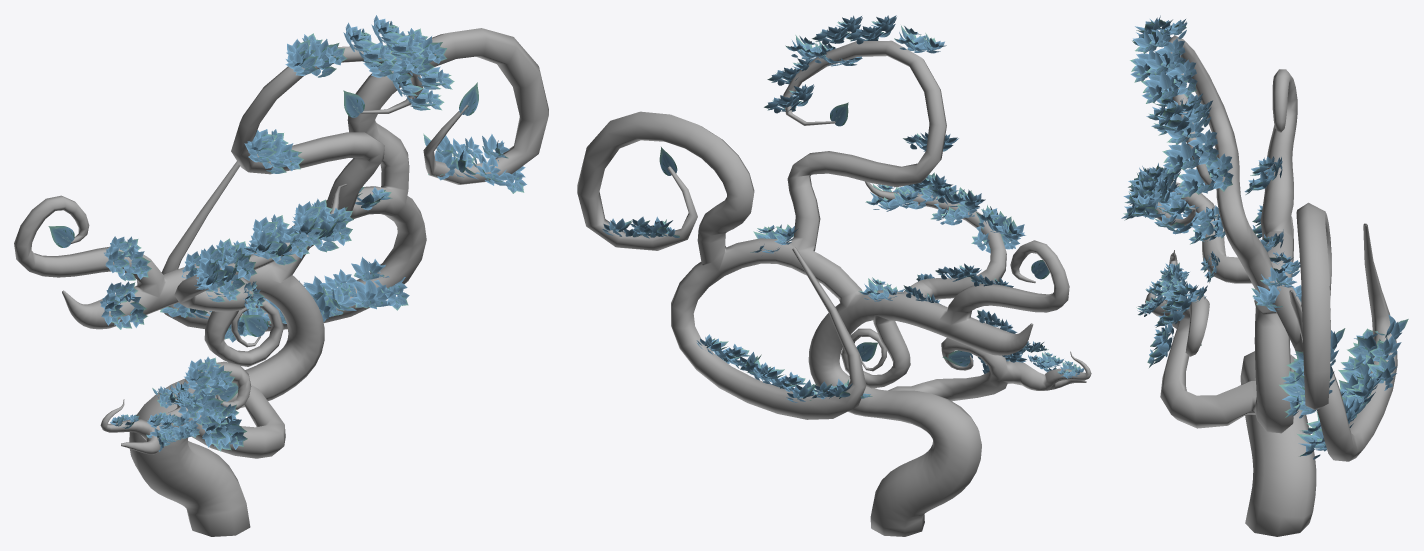
File: arbre spirale + feuille.fbx
3 views of the same model, side by side, from view 1: azimuth 30°, elevation 25°; view 2: azimuth 150°, elevation 25°; view 3: azimuth 270°, elevation 25° (orthographic). The views are drawn at different scales.
Visible parts, largest first — view 1: pCylinder3, feuillage_5_grand2, feuillage_5_grand5, feuillage_5_petit17, feuillage_5_petit15, feuillage_5_petit14, feuillage_5_petit12, feuillage_5_petit16, feuillage_5_petit5, feuillage_5_petit6, feuillage_5_petit2, feuillage_5_petit4 (+8 smaller); view 2: pCylinder3, feuillage_5_grand2, feuillage_5_grand5, feuillage_5_petit25, feuillage_5_grand3, feuillage_5_petit26, feuillage_5_grand4, feuillage_5_petit17, feuillage_5_petit19, feuillage_5_petit13, feuillage_5_petit20, feuillage_5_petit18 (+1 smaller); view 3: pCylinder3, feuillage_5_grand4, feuillage_5_petit19, feuillage_5_petit21, feuillage_5_grand5, feuillage_5_petit18, feuillage_5_petit20, feuillage_5_petit13, feuillage_5_petit27, feuillage_5_grand2, feuillage_5_petit22, feuillage_5_petit14 (+12 smaller).
Boxes of the visible parts, x1,y1,x2,y2 form: pCylinder3: (14, 28, 548, 536); feuillage_5_grand2: (303, 257, 409, 321); feuillage_5_grand5: (423, 133, 526, 193); feuillage_5_petit17: (285, 33, 347, 77); feuillage_5_petit15: (196, 238, 256, 291); feuillage_5_petit14: (292, 198, 352, 252); feuillage_5_petit12: (249, 214, 310, 265); feuillage_5_petit16: (244, 129, 303, 173); feuillage_5_petit5: (100, 281, 147, 329); feuillage_5_petit6: (104, 236, 151, 280); feuillage_5_petit2: (202, 404, 247, 451); feuillage_5_petit4: (184, 356, 234, 395); pCylinder3: (577, 40, 1091, 536); feuillage_5_grand2: (696, 334, 770, 381); feuillage_5_grand5: (602, 216, 679, 238); feuillage_5_petit25: (971, 206, 1025, 253); feuillage_5_grand3: (750, 362, 817, 400); feuillage_5_petit26: (931, 185, 982, 225); feuillage_5_grand4: (786, 379, 872, 402); feuillage_5_petit17: (894, 25, 946, 53); feuillage_5_petit19: (812, 15, 862, 44); feuillage_5_petit13: (865, 184, 918, 211); feuillage_5_petit20: (764, 84, 814, 113); feuillage_5_petit18: (846, 15, 896, 44); pCylinder3: (1145, 35, 1397, 536); feuillage_5_grand4: (1338, 314, 1408, 390); feuillage_5_petit19: (1141, 50, 1197, 103); feuillage_5_petit21: (1162, 123, 1218, 173); feuillage_5_grand5: (1279, 328, 1345, 418); feuillage_5_petit18: (1130, 29, 1185, 82); feuillage_5_petit20: (1177, 144, 1233, 197); feuillage_5_petit13: (1154, 199, 1212, 234); feuillage_5_petit27: (1251, 267, 1301, 311); feuillage_5_grand2: (1297, 397, 1368, 459); feuillage_5_petit22: (1151, 98, 1207, 133); feuillage_5_petit14: (1121, 177, 1170, 220).
Size of the model in its own units: 24.45 by 22.24 by 11.02.
